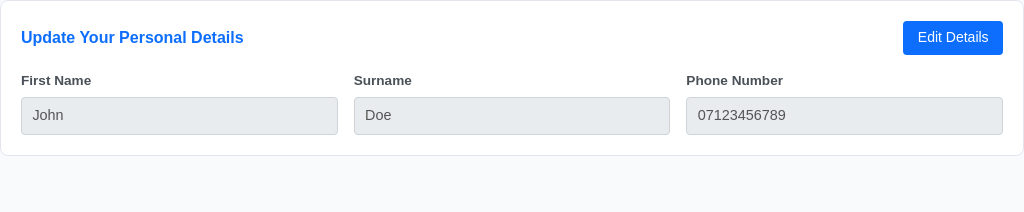
CustomerProfile Component › enables form inputs and action buttons when Edit Details is clicked
Expected: the field labelled "First Name" is disabled, [21,97,338,135]
What coordinates should you click on to do the following:
click the button "Edit Details"
I would click on:
 (953, 38)
Its box is [903,21,1003,55].
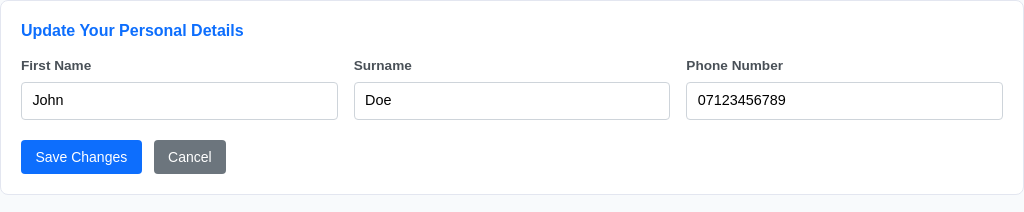
Result: the field labelled "First Name" is enabled at [21,82,338,120]
Result: the button "Save Changes" is shown at [21,140,142,174]
Result: the button "Cancel" is shown at [154,140,226,174]
